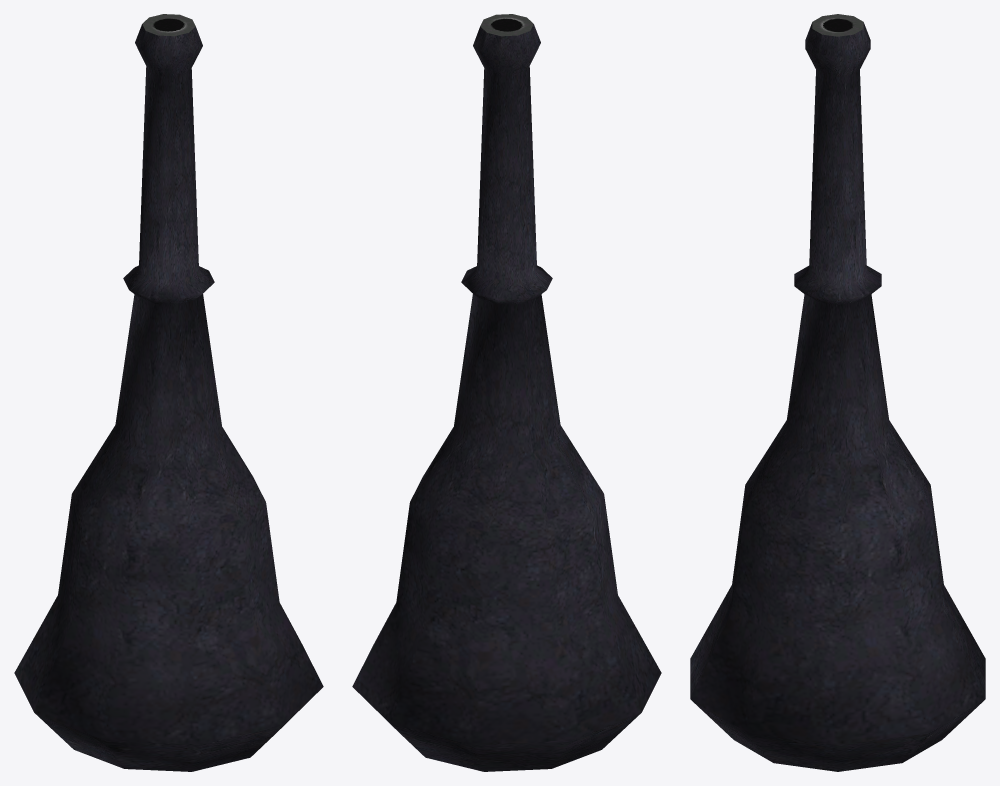
File: edb_con_tato_bottle_empty_s02_l0.fbx
3 views of the same model, side by side, from view 1: azimuth 30°, elevation 25°; view 2: azimuth 150°, elevation 25°; view 3: azimuth 270°, elevation 25° (orthographic).
Visible parts, largest first — view 1: mesh_node; view 2: mesh_node; view 3: mesh_node.
Part boxes in pixels (x1,y1,x2,y2): mesh_node: [14, 14, 323, 771]; mesh_node: [352, 14, 661, 771]; mesh_node: [690, 14, 985, 771].
Bounding box in the file's own units: 0.3573 × 0.8889 × 0.3398.
